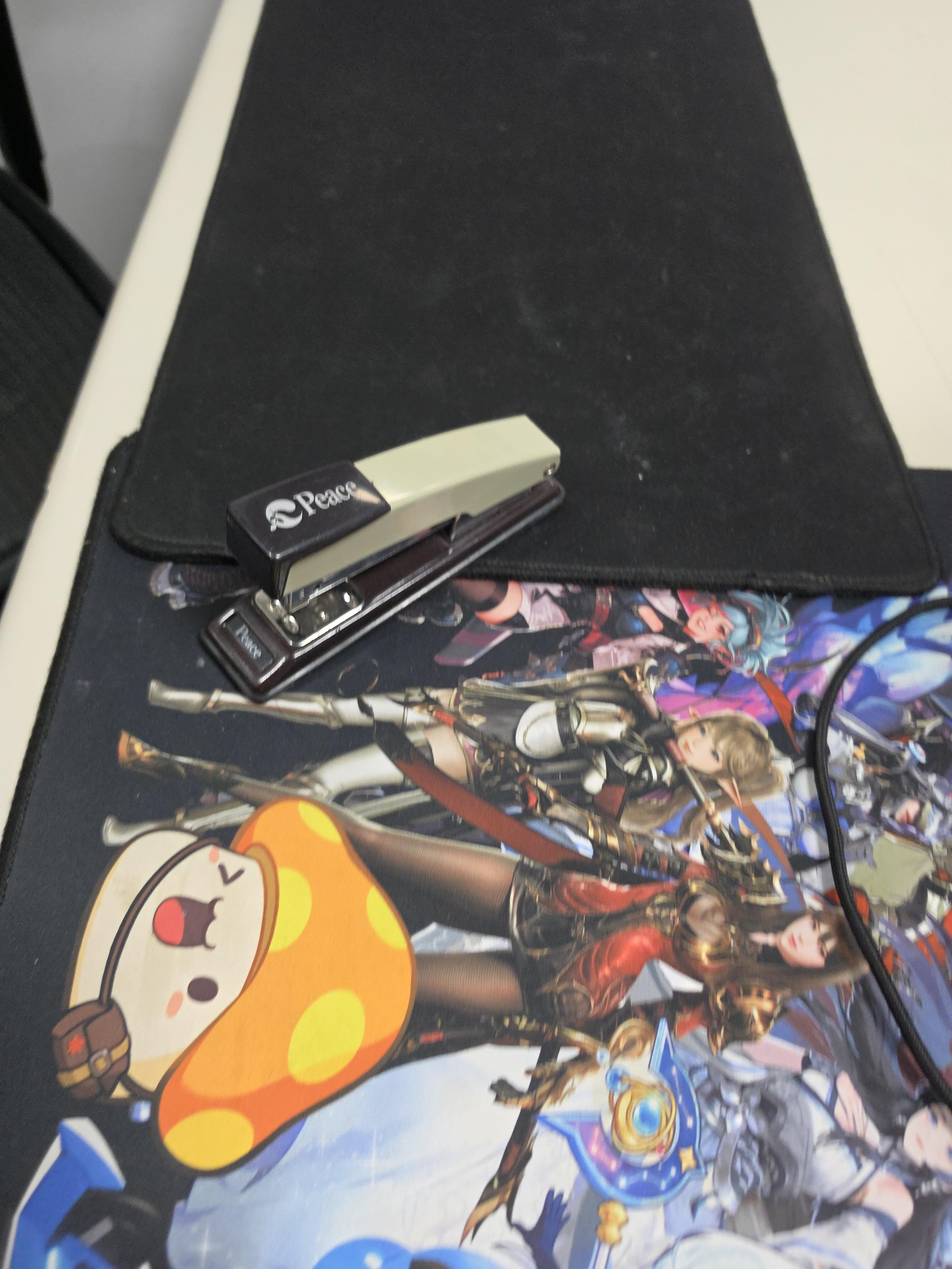stapler: (198, 414, 566, 703)
